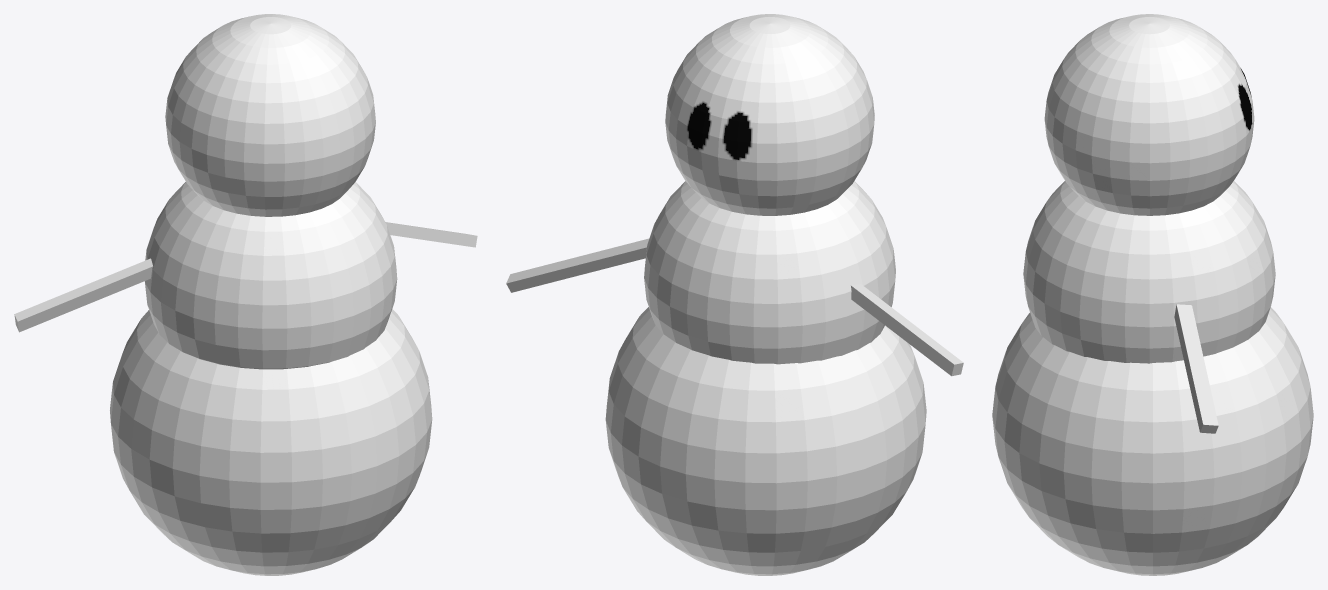
Rendered from SnowMan.gltf.
3 renders of one model, left to right at view 1: azimuth 30°, elevation 25°; view 2: azimuth 150°, elevation 25°; view 3: azimuth 270°, elevation 25°, orthographic.
Parts seen in each view (by area): view 1: Sphere, Sphere.001, Sphere.002, Cube, Cube.001; view 2: Sphere, Sphere.001, Sphere.002, Cube.001, Cube; view 3: Sphere, Sphere.001, Sphere.002, Cube.001.
Part boxes in pixels (<box>): Sphere: <box>110,309,432,575</box>; Sphere.001: <box>144,182,397,369</box>; Sphere.002: <box>165,14,375,216</box>; Cube: <box>14,258,152,332</box>; Cube.001: <box>385,222,477,247</box>; Sphere: <box>605,307,926,575</box>; Sphere.001: <box>644,181,895,364</box>; Sphere.002: <box>665,14,874,215</box>; Cube.001: <box>506,238,649,292</box>; Cube: <box>851,284,963,376</box>; Sphere: <box>992,307,1313,575</box>; Sphere.001: <box>1023,181,1275,363</box>; Sphere.002: <box>1044,14,1254,215</box>; Cube.001: <box>1174,304,1218,433</box>.
Bounding box in the file's own units: 1.53 × 1.72 × 0.9355.
Materials: 2 (1 with a texture image).
